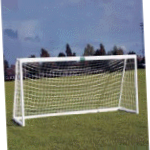goals: (11, 53, 141, 131)
